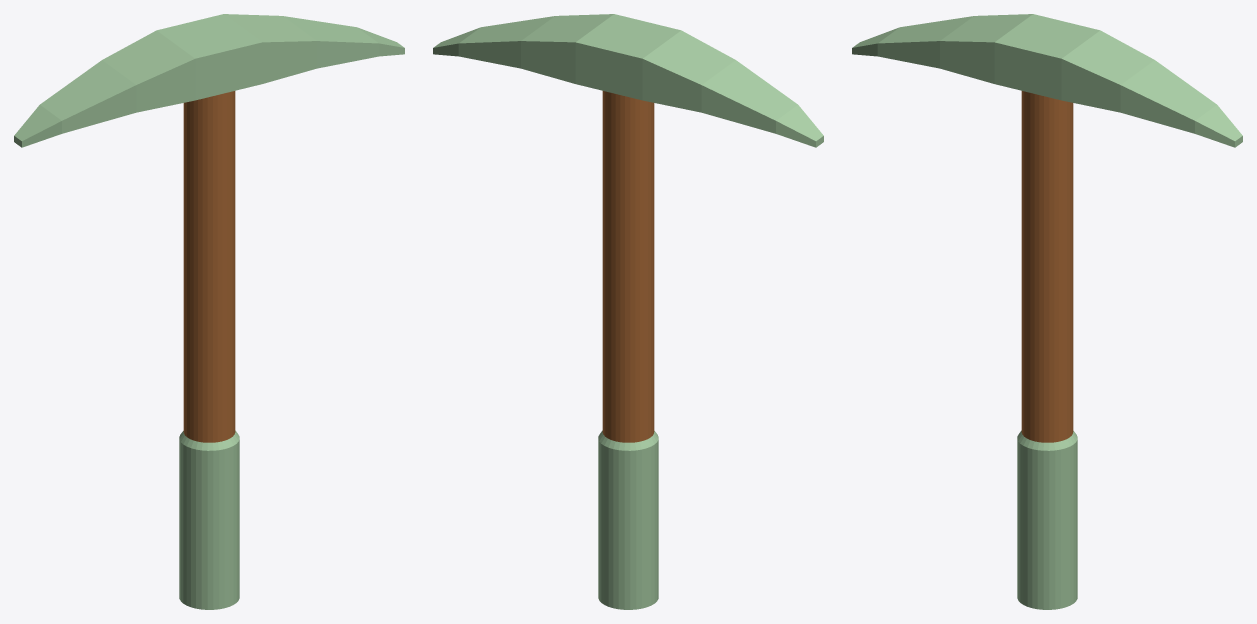
File: Pickaxe.fbx
3 views of the same model, side by side, from view 1: azimuth 30°, elevation 25°; view 2: azimuth 150°, elevation 25°; view 3: azimuth 330°, elevation 25° (orthographic).
Parts seen in each view (by area): view 1: Cube; view 2: Cube; view 3: Cube.
Boxes of the visible parts, <box> form: Cube: <box>14,14,404,609</box>; Cube: <box>433,14,823,609</box>; Cube: <box>852,14,1242,609</box>.
Size of the model in its own units: 246 by 345 by 43.17.
